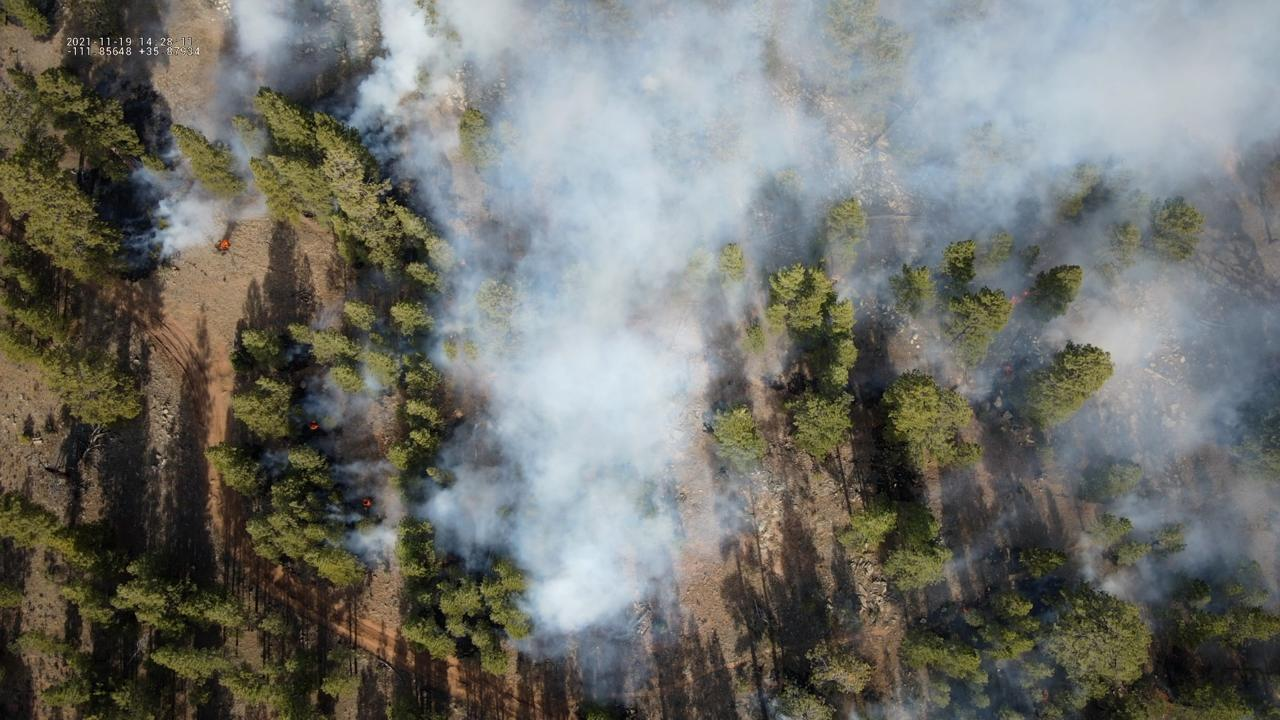fire: (1008, 289, 1029, 306), (217, 238, 231, 252), (307, 420, 320, 431), (361, 496, 373, 507)
smoke: (94, 0, 1280, 720)
